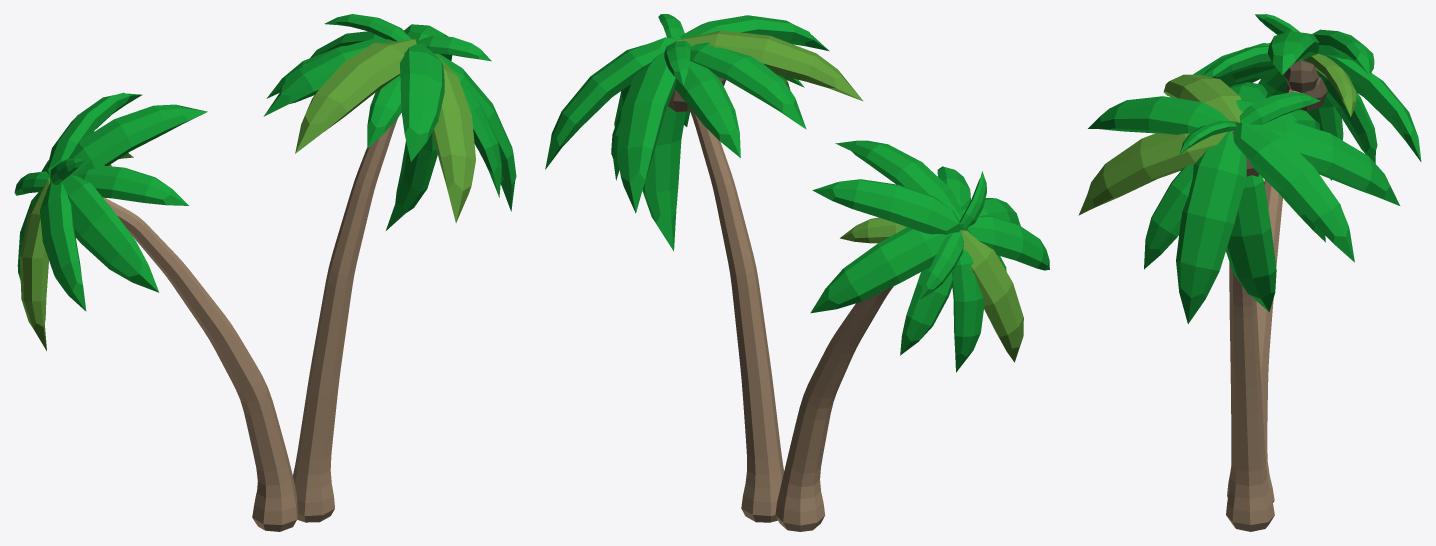
File: palms1.glb
3 renders of one model, left to right at view 1: azimuth 30°, elevation 25°; view 2: azimuth 150°, elevation 25°; view 3: azimuth 270°, elevation 25°, orthographic. The views are drawn at different scales.
Parts seen in each view (by area): view 1: palm_5; view 2: palm_5; view 3: palm_5.
Part boxes in pixels (box(x1,y1,x2,y2)): palm_5: box(14, 14, 516, 531); palm_5: box(545, 14, 1049, 531); palm_5: box(1078, 14, 1421, 531).
Size of the model in its own units: 4.2 by 4.24 by 2.82.
